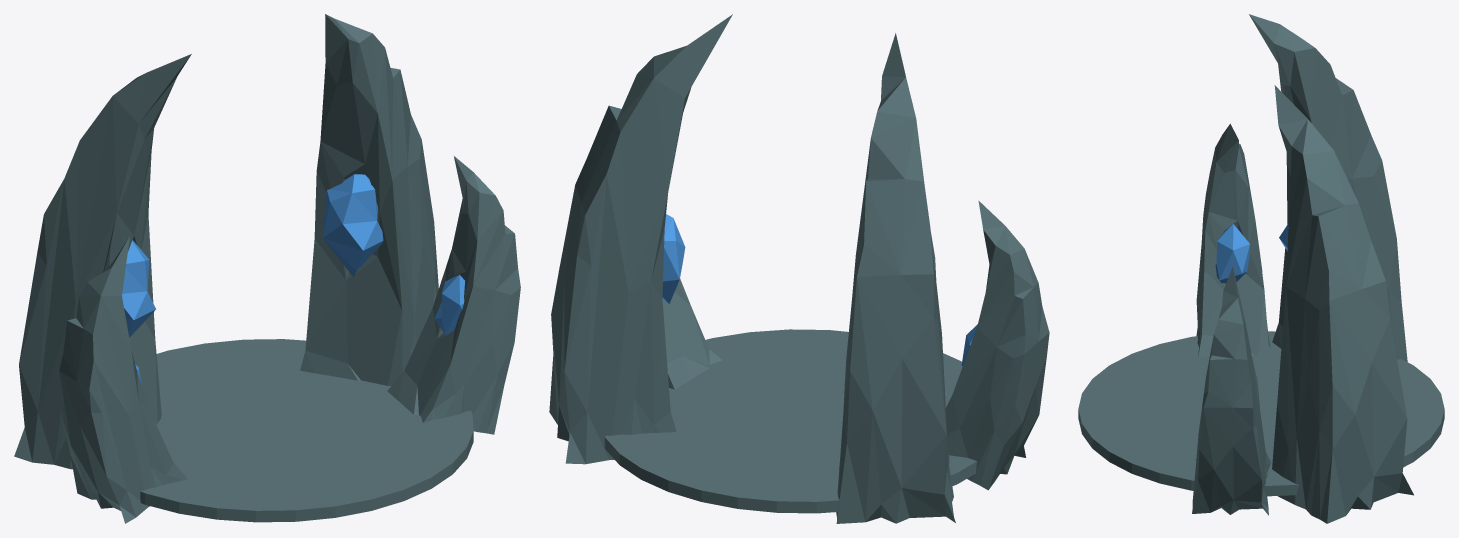
File: portalWide.fbx
3 renders of one model, left to right at view 1: azimuth 30°, elevation 25°; view 2: azimuth 150°, elevation 25°; view 3: azimuth 270°, elevation 25°, orthographic. The views are drawn at different scales.
Visible parts, largest first — view 1: Cylinder.001; view 2: Cylinder.001; view 3: Cylinder.001.
Part boxes in pixels (x1=…): Cylinder.001: x1=14, y1=14, x2=520, y2=523; Cylinder.001: x1=549, y1=14, x2=1049, y2=523; Cylinder.001: x1=1078, y1=14, x2=1444, y2=523.
Bounding box in the file's own units: 1739 × 1611 × 1401.
